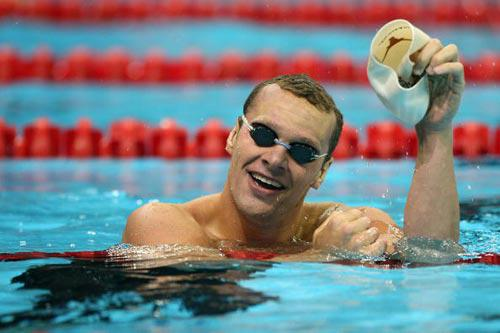swimmer: (122, 19, 466, 278)
